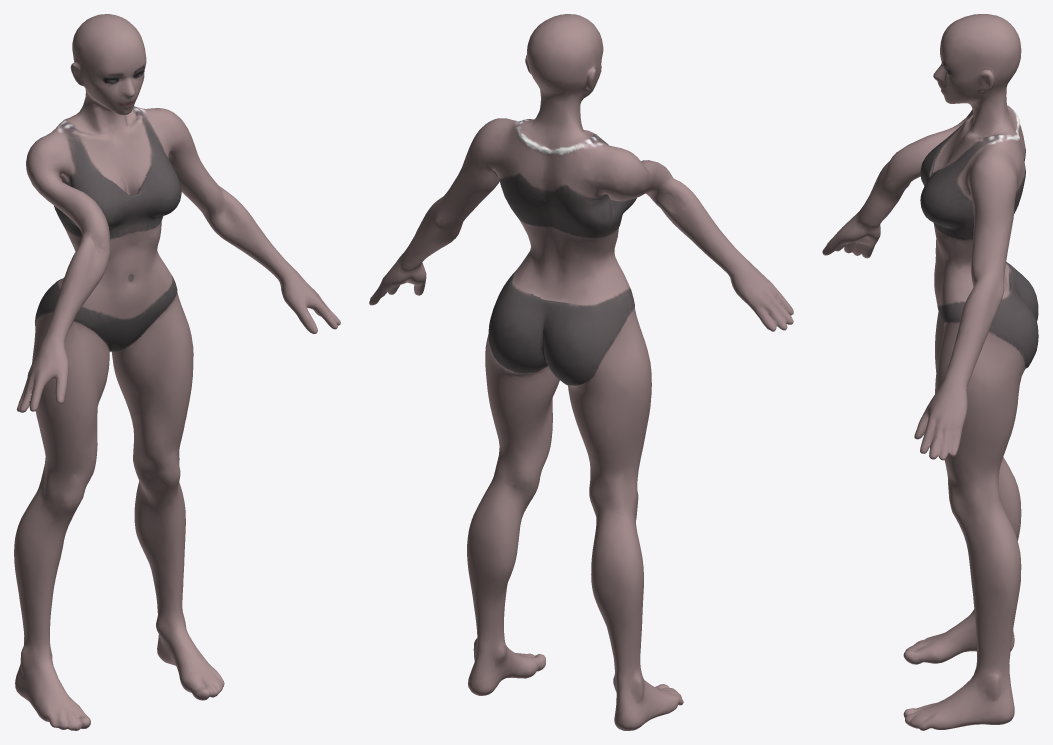
File: 16-UpperArmL-60-child60-twist20-baseline.glb
3 views of the same model, side by side, from view 1: azimuth 30°, elevation 25°; view 2: azimuth 150°, elevation 25°; view 3: azimuth 270°, elevation 25° (orthographic). The views are drawn at different scales.
Parts seen in each view (by area): view 1: baseline; view 2: baseline; view 3: baseline.
Part boxes in pixels (x1,y1,x2,y2): baseline: [14, 14, 340, 730]; baseline: [369, 14, 793, 730]; baseline: [822, 14, 1038, 730].
Size of the model in its own units: 0.5685 by 1 by 0.2911.
1 material, 1 textured.
